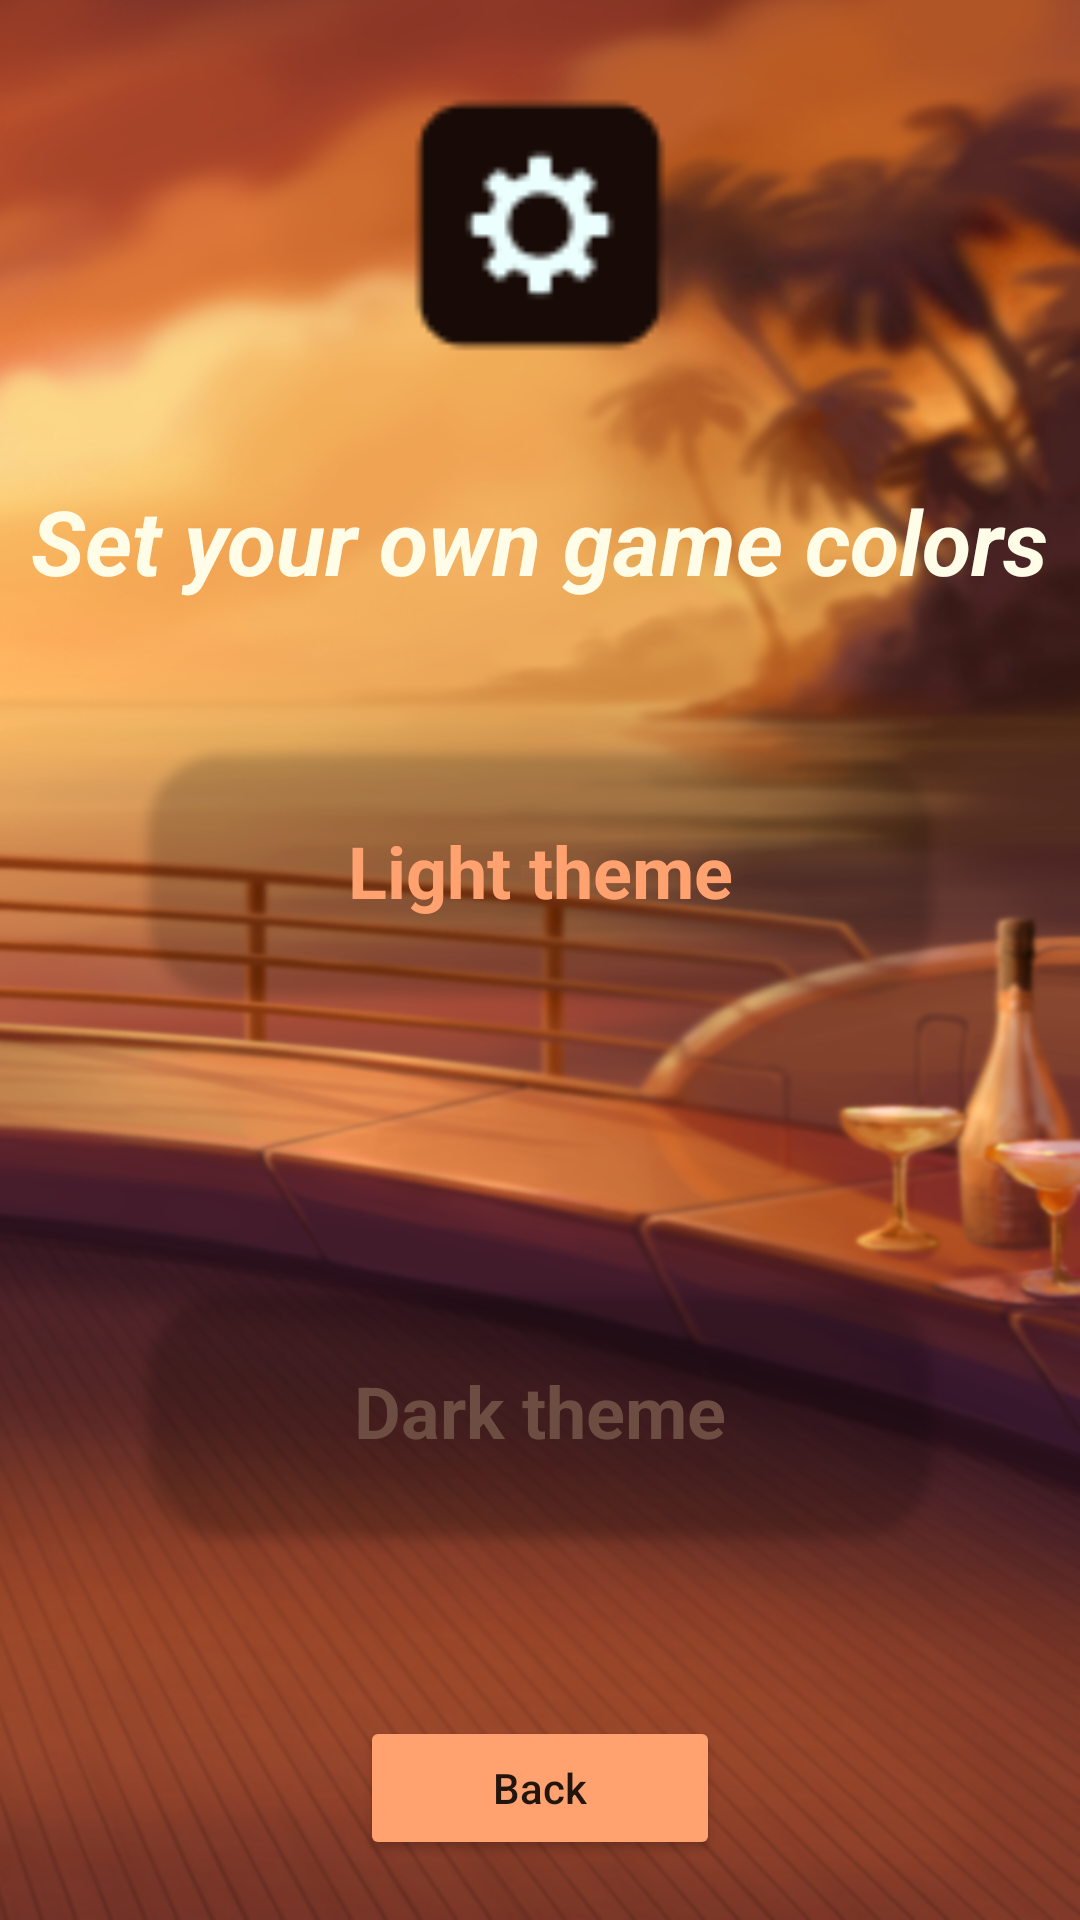

Named icons in this screenshot (1080*1920) and their centers, point (x, y):
settings: point (540, 225)
